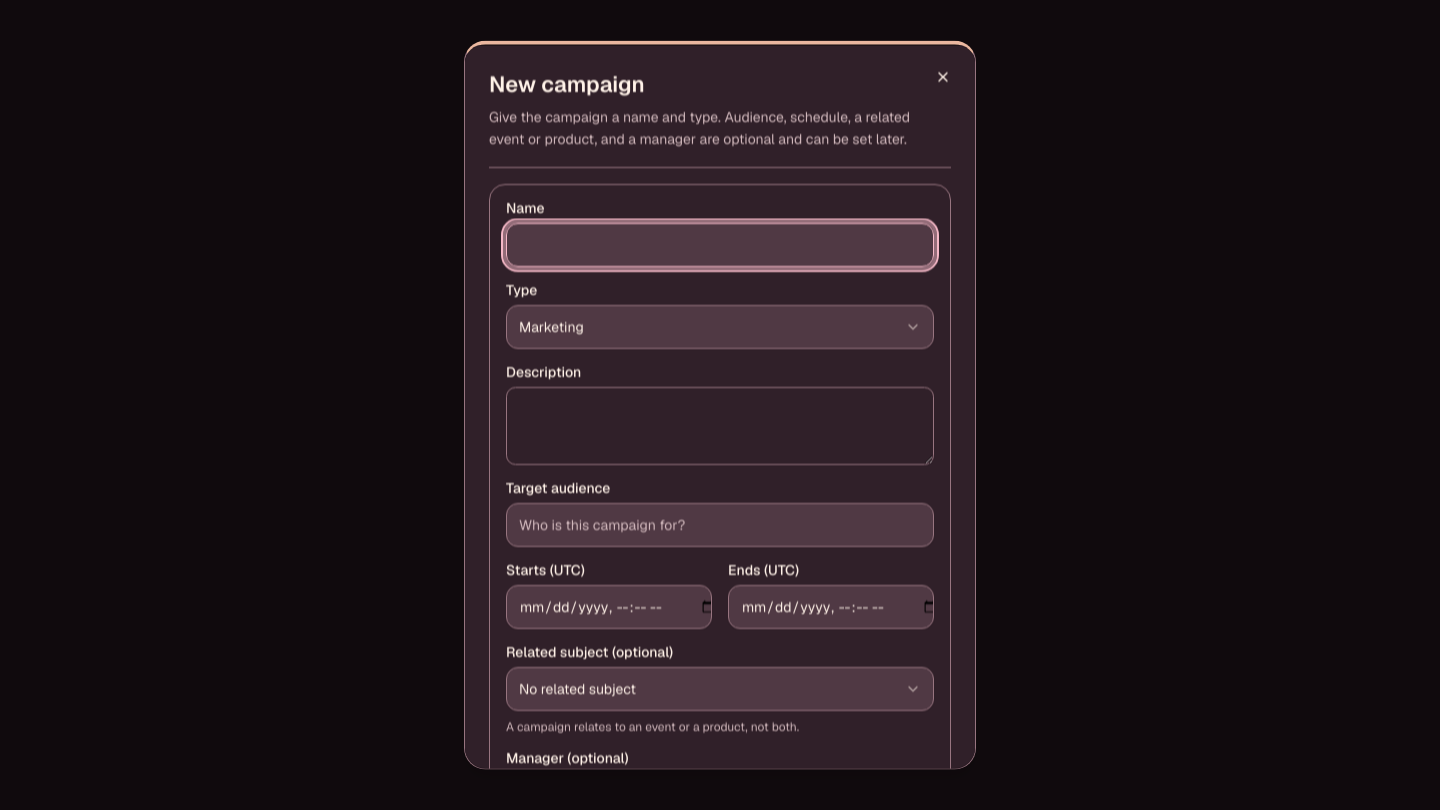
Test: CreateCampaignDialog › related subject › requires a product name once the subject is a product
The width and height of the screenshot is (1440, 810).
Type "Needs Product" into the field labelled "Name".
click(720, 244); type("Needs Product")  # box [506,222,934,266]
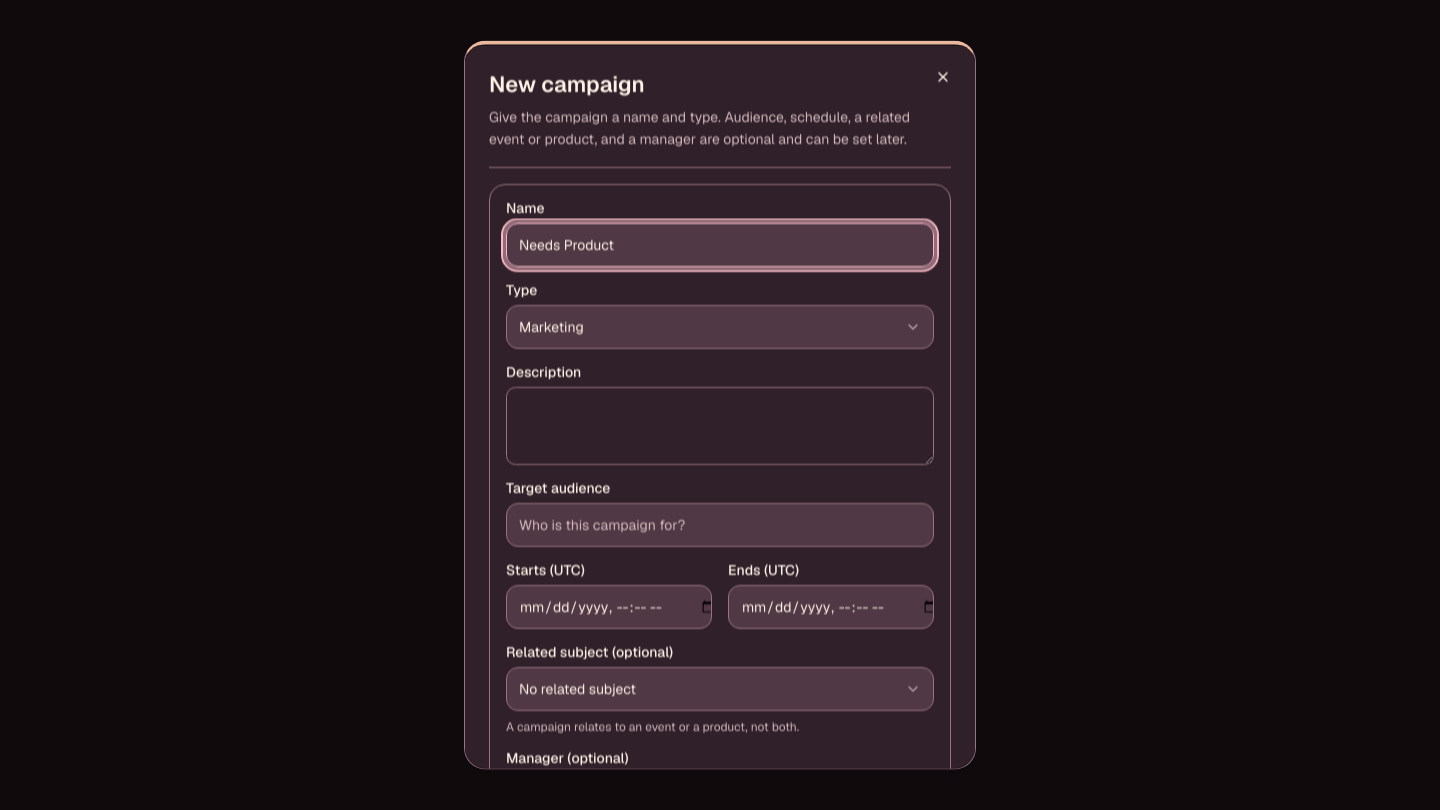
Click the dropdown named "Related subject (optional)".
click(577, 688)  # box [506,666,934,710]
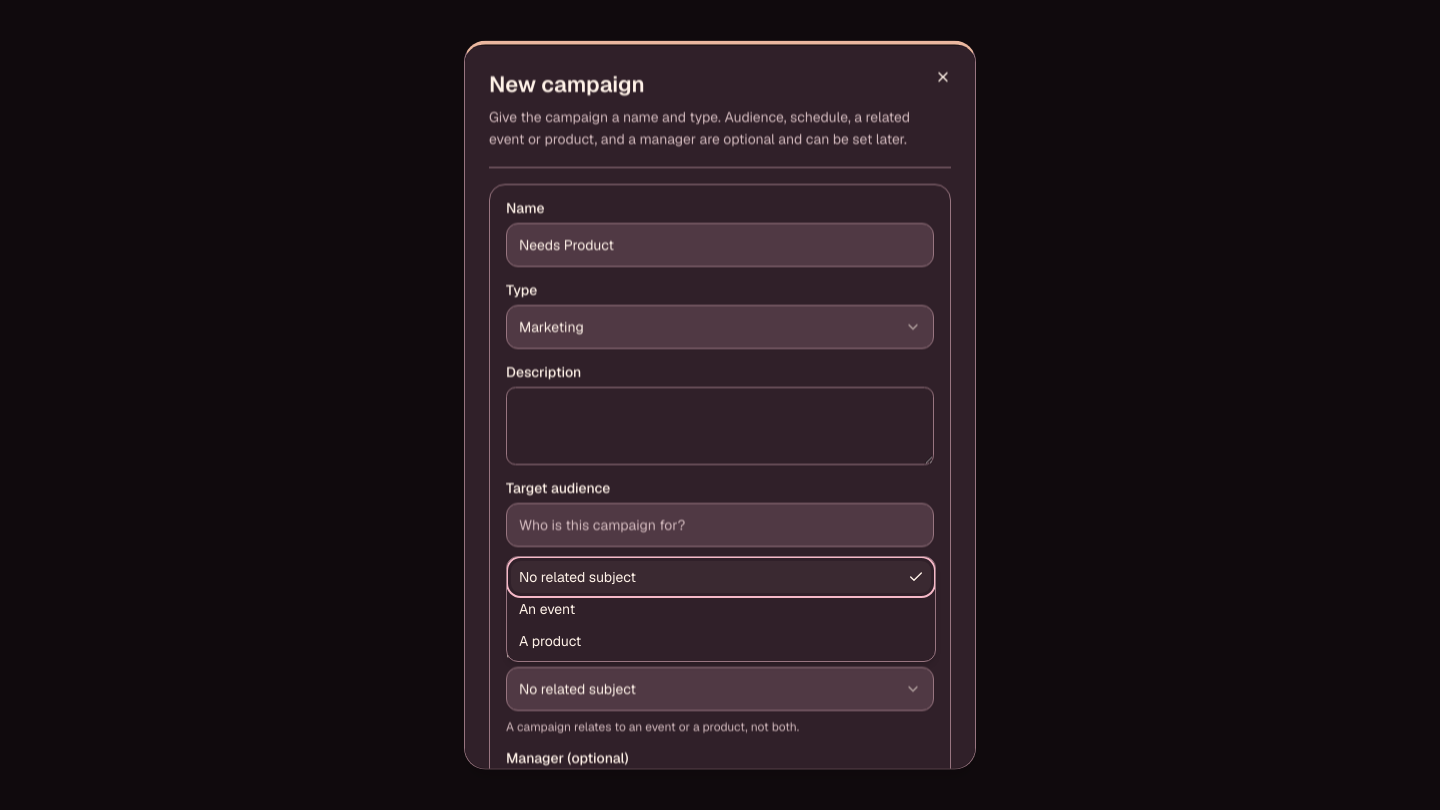
Click the option "A product".
click(550, 641)  # box [519,632,581,650]
(page scrolled)
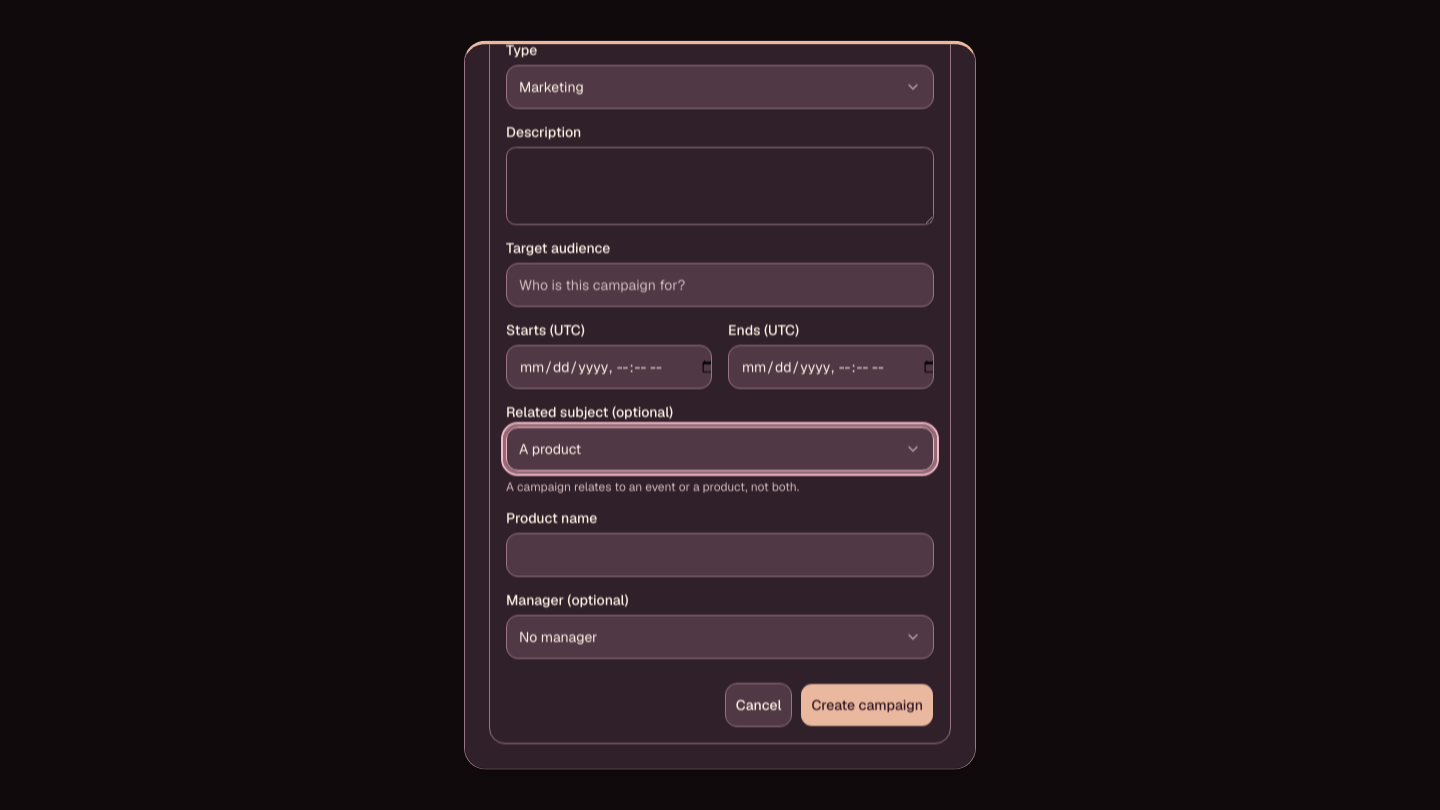
Click the button "Create campaign".
click(867, 705)  # box [800,683,934,727]
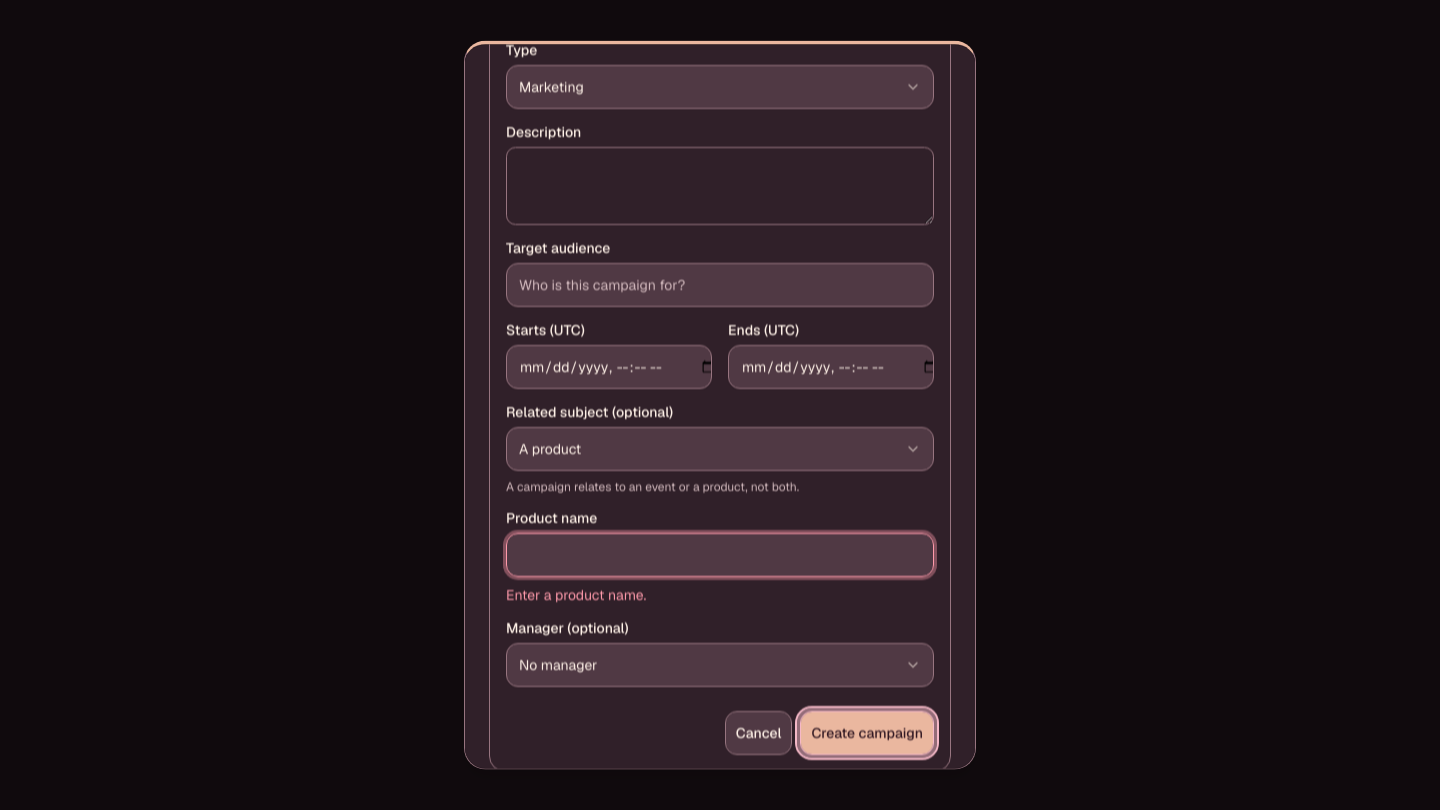
expect the text "Enter a product name." is shown: met, box [506,586,646,604]
